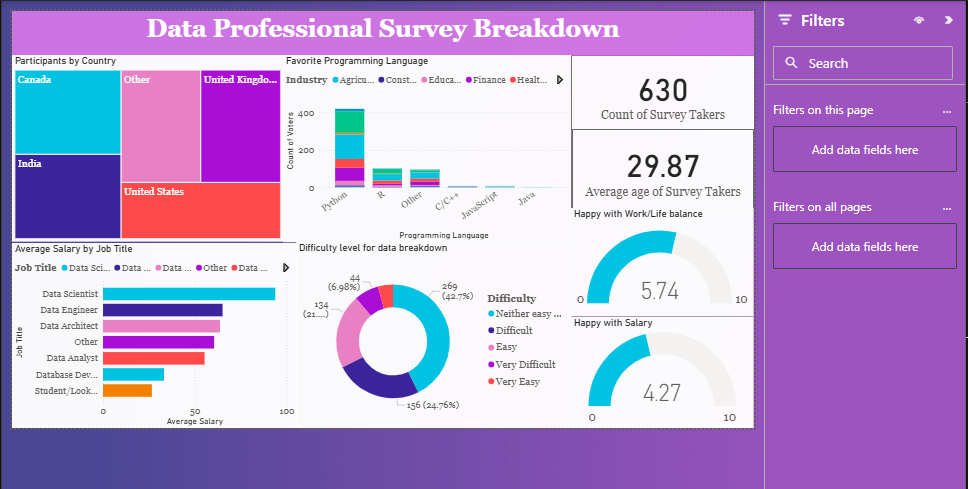

This screenshot's page, from the dashboard's own definition file:
{"tool":"powerbi","page":{"name":"Page 1","canvas":[1280,720],"ordinal":0},"visuals":[{"type":"textbox","box":[0,0,1280,77.3],"z":0},{"type":"card","fields":{"Values":["CountNonNull(Data Professional Survey.Unique ID)"]},"box":[965.9,77.3,314.1,126],"z":1000},{"type":"card","fields":{"Values":["Avg(Data Professional Survey.Q10 - Current Age)"]},"box":[965.9,203.3,314.1,137.7],"z":2000},{"type":"barChart","title":"Average Salary by Job Title","fields":{"Category":["Data Professional Survey.Q1 - Which Title Best Fits your Current Role?.1"],"Y":["Avg(Data Professional Survey.Average Salary)"],"Series":["Data Professional Survey.Q1 - Which Title Best Fits your Current Role?.1"]},"box":[0,400,491.9,320],"z":3000},{"type":"columnChart","title":"Favorite Programming Language","fields":{"Category":["Data Professional Survey.Q5 - Favorite Programming Language.1"],"Y":["CountNonNull(Data Professional Survey.Unique ID)"],"Series":["Data Professional Survey.Q4 - What Industry do you work in?.1"]},"box":[468.1,76.6,497,323.4],"z":4000},{"type":"treemap","title":"Participants by Country","fields":{"Group":["Data Professional Survey.Q11 - Which Country do you live in?.1"],"Values":["Count(Data Professional Survey.Q11 - Which Country do you live in?.1)"]},"box":[0,76.6,468.1,321.7],"z":5000},{"type":"gauge","title":"Happy with Work/Life balance","fields":{"Y":["Avg(Data Professional Survey.Q6 - How Happy are you in your Current Position with the following? (Work/Life Balance))"],"MinValue":["Min(Data Professional Survey.Q6 - How Happy are you in your Current Position with the following? (Work/Life Balance))"],"MaxValue":["Max(Data Professional Survey.Q6 - How Happy are you in your Current Position with the following? (Work/Life Balance))"]},"box":[965.1,340.4,314.9,187.2],"z":6000},{"type":"gauge","title":"Happy with Salary","fields":{"Y":["Avg(Data Professional Survey.Q6 - How Happy are you in your Current Position with the following? (Salary))"],"MinValue":["Min(Data Professional Survey.Q6 - How Happy are you in your Current Position with the following? (Salary))1"],"MaxValue":["Max(Data Professional Survey.Q6 - How Happy are you in your Current Position with the following? (Salary))2"]},"box":[965.1,527.7,314.9,192.3],"z":7000},{"type":"donutChart","title":"Difficulty level for data breakdown","fields":{"Category":["Data Professional Survey.Q7 - How difficult was it for you to break into Data?"],"Y":["CountNonNull(Data Professional Survey.Q7 - How difficult was it for you to break into Data?)"],"Series":["Data Professional Survey.Q7 - How difficult was it for you to break into Data?"]},"box":[490.2,398.3,474.9,321.7],"z":8000}]}

Visuals, with their boxes on the page's 1280x720 design canvas (x1, y1, x2, y2). These are canvas units, not pixel positions in the 968x489 screenshot, which may show the page scaled, cropped or inside an application window:
textbox: (0, 0, 1280, 77)
card - CountNonNull(Data Professional Survey.Unique ID): (966, 77, 1280, 203)
card - Avg(Data Professional Survey.Q10 - Current Age): (966, 203, 1280, 341)
"Average Salary by Job Title" barChart: (0, 400, 492, 720)
"Favorite Programming Language" columnChart: (468, 77, 965, 400)
"Participants by Country" treemap: (0, 77, 468, 398)
"Happy with Work/Life balance" gauge: (965, 340, 1280, 528)
"Happy with Salary" gauge: (965, 528, 1280, 720)
"Difficulty level for data breakdown" donutChart: (490, 398, 965, 720)
